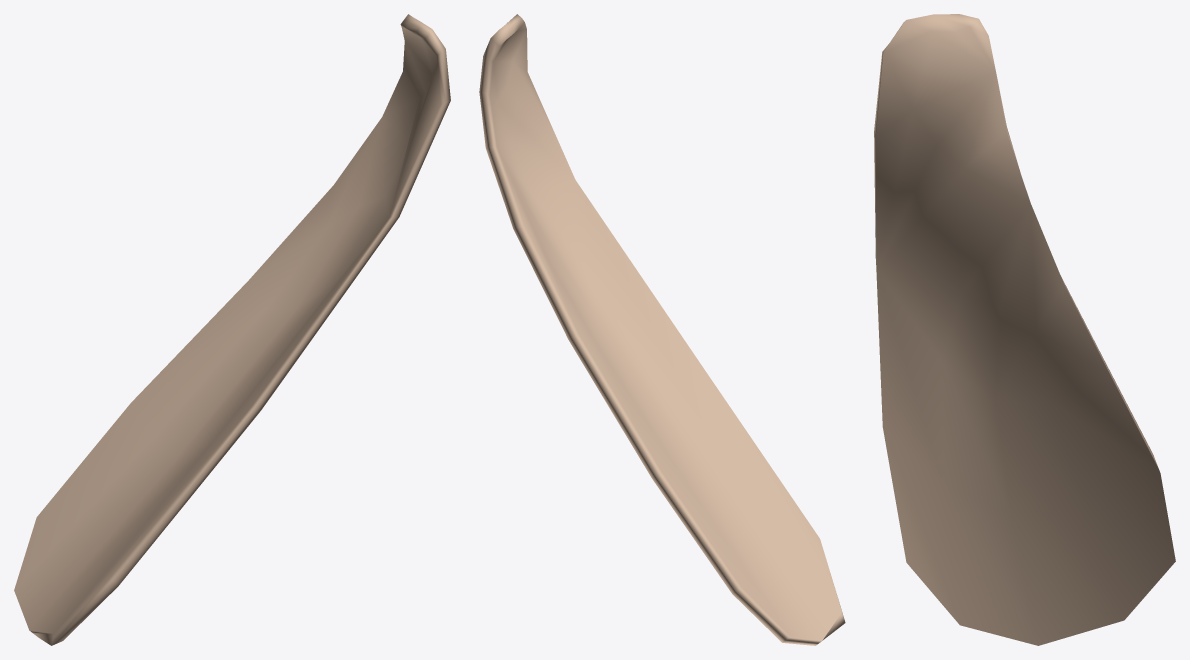
3 views of the same model, side by side, from view 1: azimuth 30°, elevation 25°; view 2: azimuth 150°, elevation 25°; view 3: azimuth 270°, elevation 25° (orthographic). The views are drawn at different scales.
Visible parts, largest first — view 1: 右侧髌内侧支持带; view 2: 右侧髌内侧支持带; view 3: 右侧髌内侧支持带.
Part boxes in pixels (<box>): 右侧髌内侧支持带: <box>14,14,450,645</box>; 右侧髌内侧支持带: <box>479,14,845,645</box>; 右侧髌内侧支持带: <box>874,14,1175,645</box>.
Size of the model in its own units: 0.0483 by 0.0675 by 0.0201.
